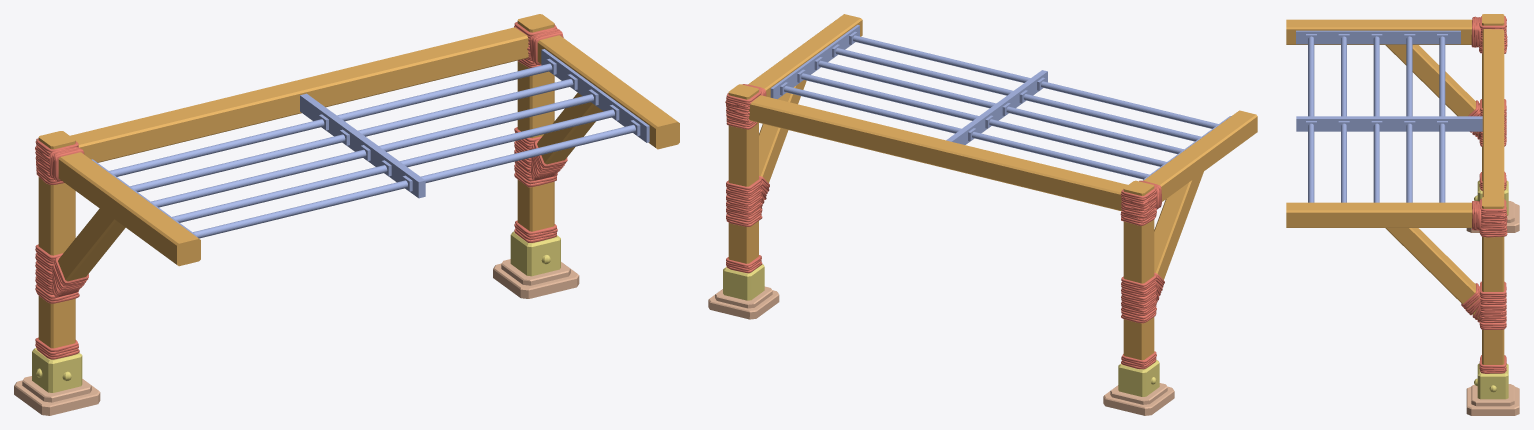
Rendered from Boss2_Platform_Mirror_AJ.fbx.
3 views of the same model, side by side, from view 1: azimuth 30°, elevation 25°; view 2: azimuth 150°, elevation 25°; view 3: azimuth 270°, elevation 25° (orthographic). The views are drawn at different scales.
Parts seen in each view (by area): view 1: Bottom_Stone; view 2: Bottom_Stone; view 3: Bottom_Stone.
Boxes of the visible parts, box(x1,y1,x2,y2) form: Bottom_Stone: box(14, 14, 679, 415); Bottom_Stone: box(708, 14, 1257, 415); Bottom_Stone: box(1286, 14, 1519, 415).
Size of the model in its own units: 2244 by 1034 by 1076.
